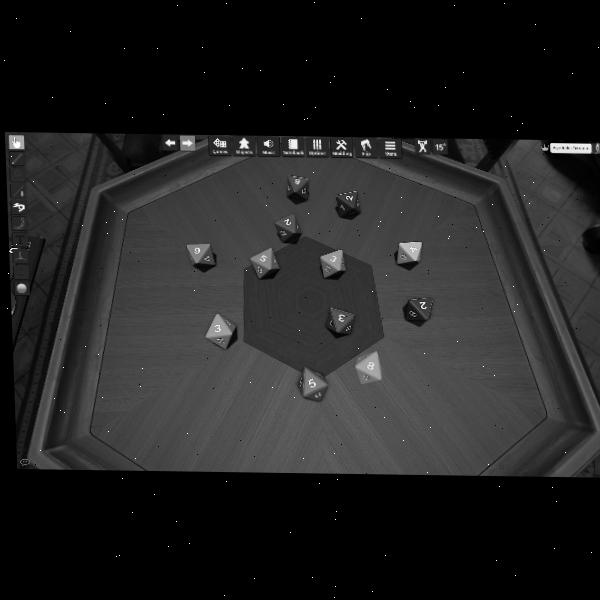d8: (205, 313, 237, 349), (298, 366, 326, 401), (250, 248, 279, 279), (355, 352, 382, 385), (327, 307, 355, 335), (274, 212, 300, 242), (319, 248, 344, 277), (396, 240, 422, 266), (186, 243, 214, 267), (336, 190, 360, 218), (406, 296, 433, 320), (286, 174, 308, 200), (382, 138, 402, 158)
